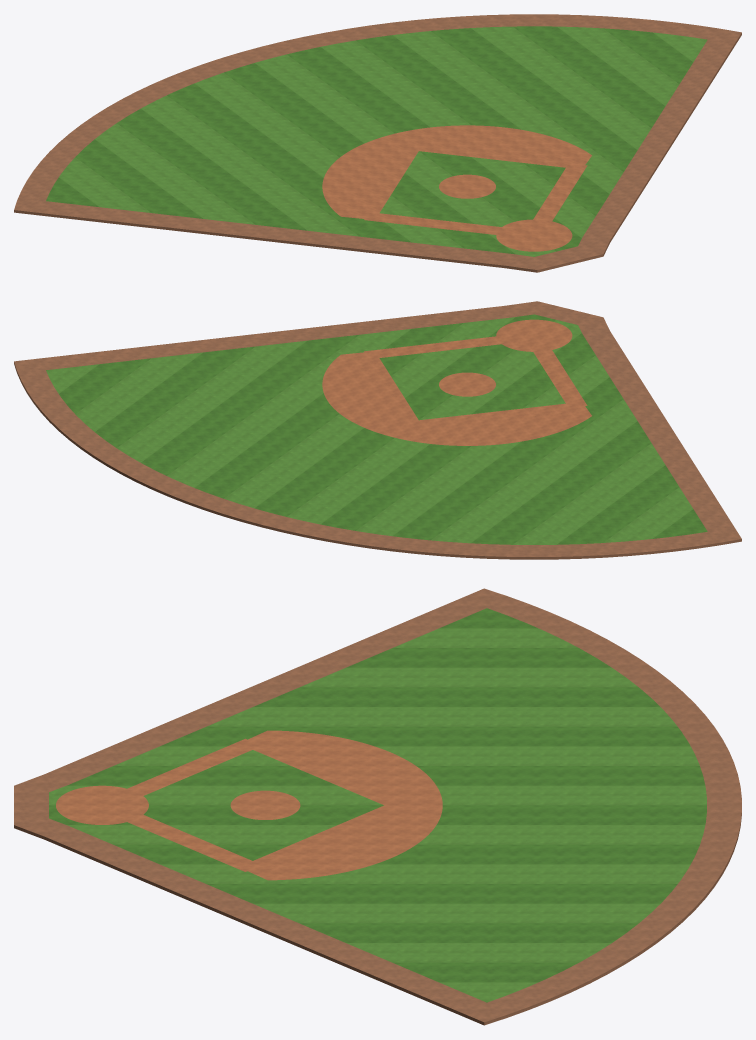
Rendered from field.glb.
3 views of the same model, one above another, from view 1: azimuth 30°, elevation 25°; view 2: azimuth 150°, elevation 25°; view 3: azimuth 270°, elevation 25° (orthographic). The views are drawn at different scales.
Parts seen in each view (by area): view 1: field_grass2, field_grass, field_track, field_clay; view 2: field_grass2, field_grass, field_track, field_clay; view 3: field_grass, field_grass2, field_track, field_clay.
Boxes of the visible parts, x1,y1,x2,y2 form: field_grass2: [46, 26, 707, 254]; field_grass: [46, 26, 706, 256]; field_track: [14, 14, 741, 272]; field_clay: [322, 125, 591, 251]; field_grass2: [46, 314, 706, 544]; field_grass: [46, 317, 707, 544]; field_track: [14, 301, 741, 559]; field_clay: [322, 319, 591, 445]; field_grass: [49, 608, 706, 1001]; field_grass2: [49, 608, 706, 1002]; field_track: [14, 588, 741, 1025]; field_clay: [56, 730, 442, 880].
Bounding box in the file's own units: 88.27 × 0.3 × 62.59.
4 materials, 4 textured.
